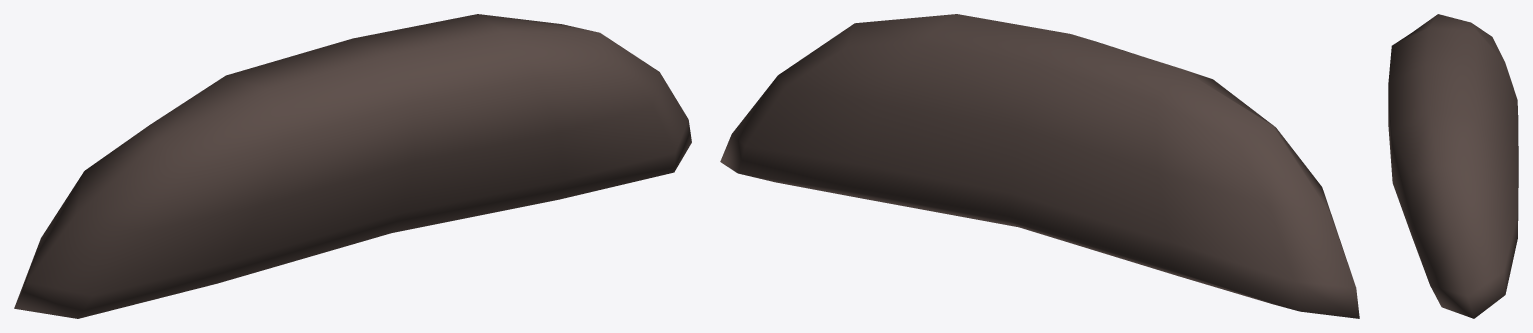
Rendered from Mustache_11.glb.
3 renders of one model, left to right at view 1: azimuth 30°, elevation 25°; view 2: azimuth 150°, elevation 25°; view 3: azimuth 270°, elevation 25°, orthographic. The views are drawn at different scales.
Visible parts, largest first — view 1: Mustache_11; view 2: Mustache_11; view 3: Mustache_11.
Part boxes in pixels (<box>): Mustache_11: <box>14,14,691,318</box>; Mustache_11: <box>720,14,1359,318</box>; Mustache_11: <box>1388,14,1518,318</box>.
Bounding box in the file's own units: 0.2203 × 0.0615 × 0.0517.
Materials: 1 (1 with a texture image).
